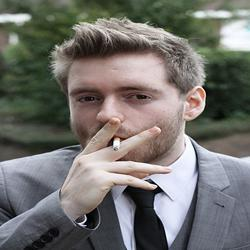cigarro: (110, 132, 124, 154)
fumador: (50, 20, 216, 248)
